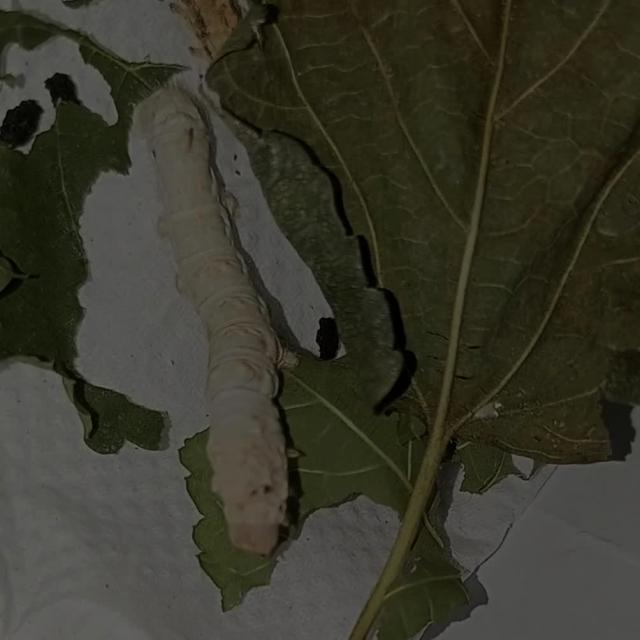Healthy: (86, 45, 360, 588)
